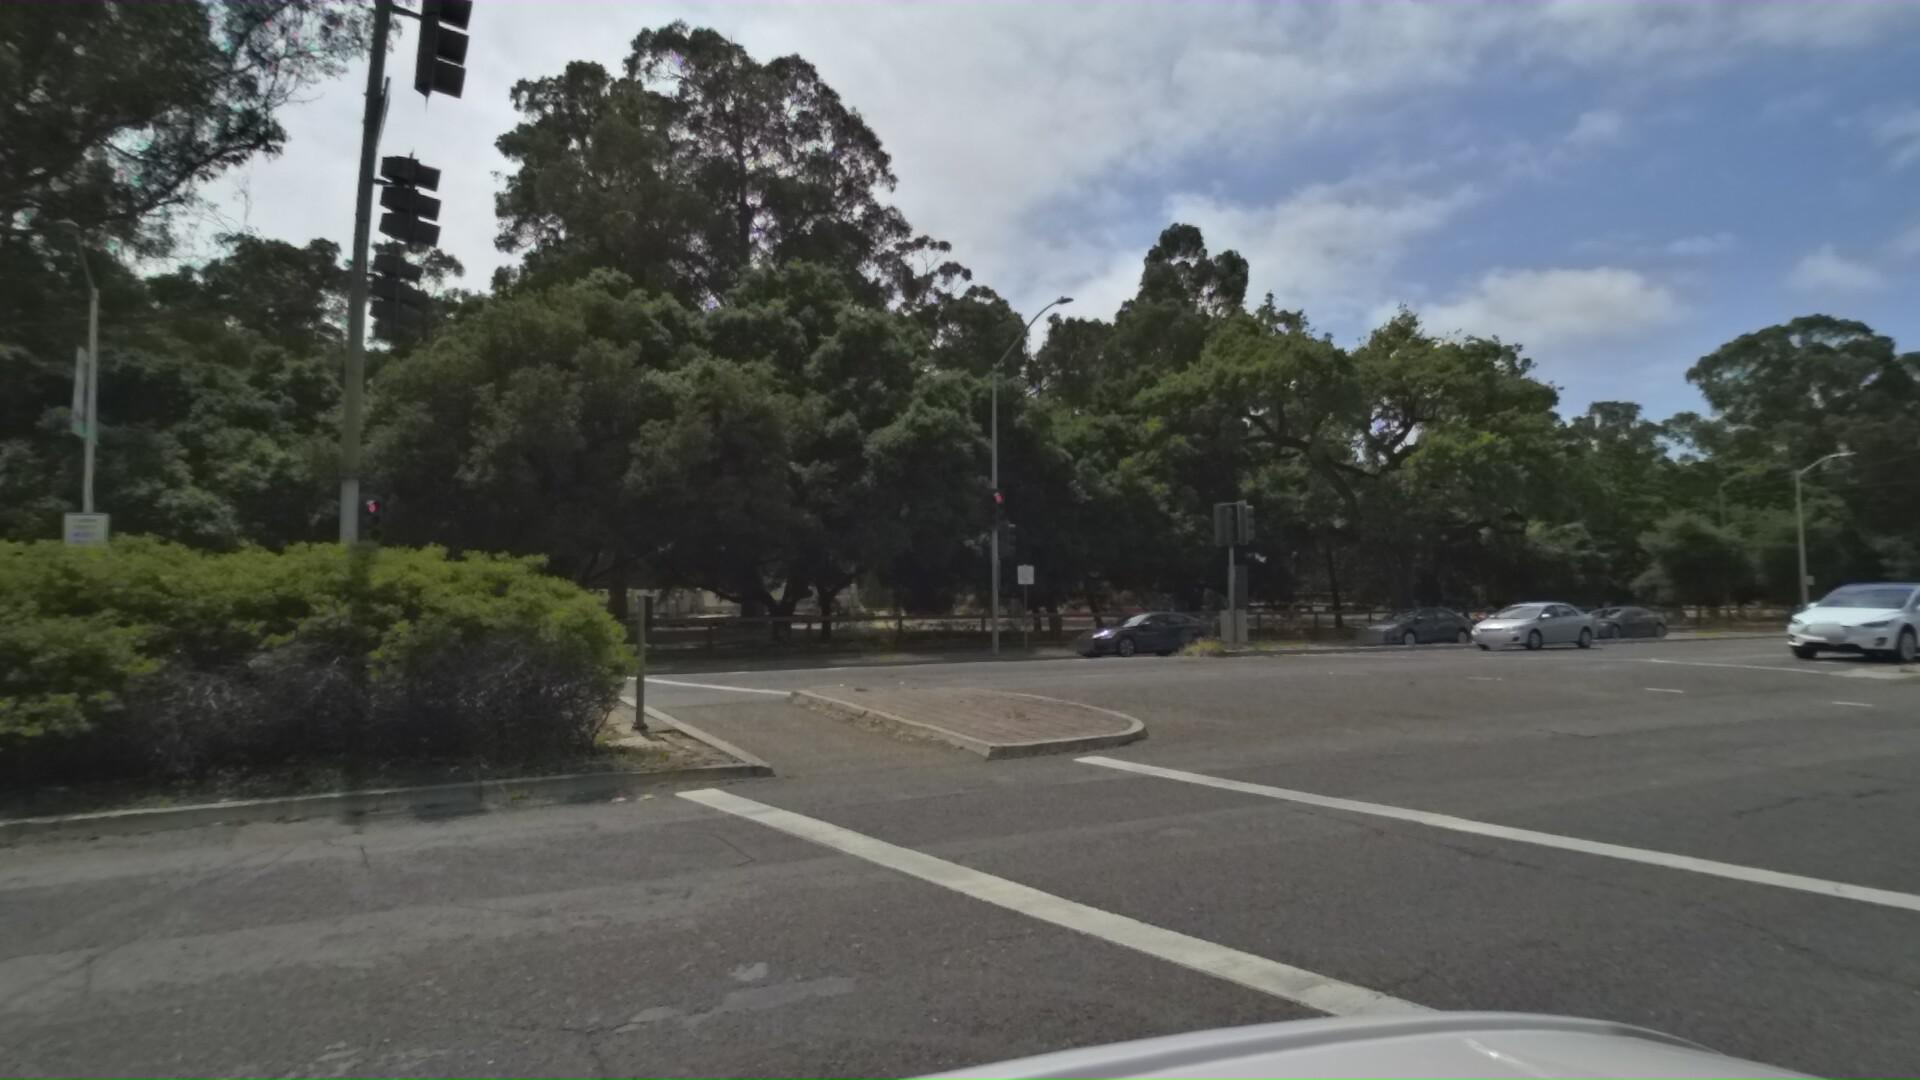car: (1749, 571, 1920, 665), (1440, 592, 1601, 650), (1033, 608, 1195, 659), (1323, 604, 1455, 647), (1542, 603, 1656, 640)
